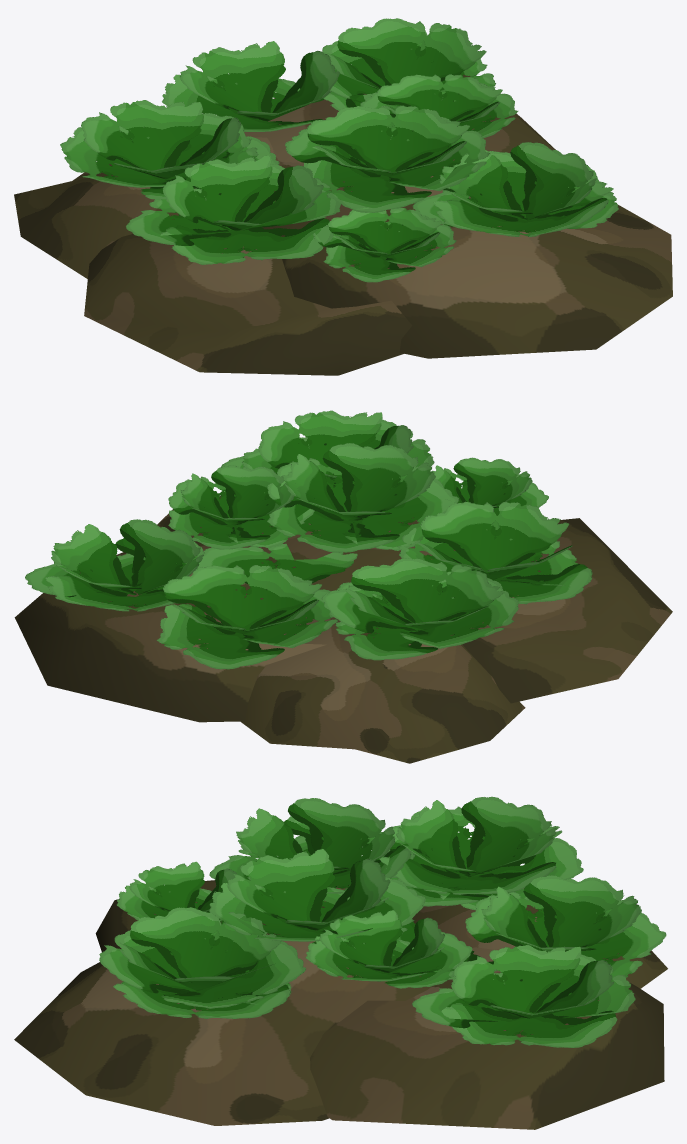
Rendered from Lettuce Coral 4_preview_3DS_simplified.glb.
The picture shows the model from 3 angles, top to bottom: view 1: azimuth 30°, elevation 25°; view 2: azimuth 150°, elevation 25°; view 3: azimuth 270°, elevation 25°; orthographic projection. The views are drawn at different scales.
Visible parts, largest first — view 1: Marine Park Empire model; view 2: Marine Park Empire model; view 3: Marine Park Empire model.
Part boxes in pixels (x1=…): Marine Park Empire model: x1=14, y1=18, x2=672, y2=375; Marine Park Empire model: x1=14, y1=410, x2=672, y2=763; Marine Park Empire model: x1=14, y1=796, x2=667, y2=1129.
Size of the model in its own units: 127 by 32.12 by 135.
2 materials, 2 textured.
